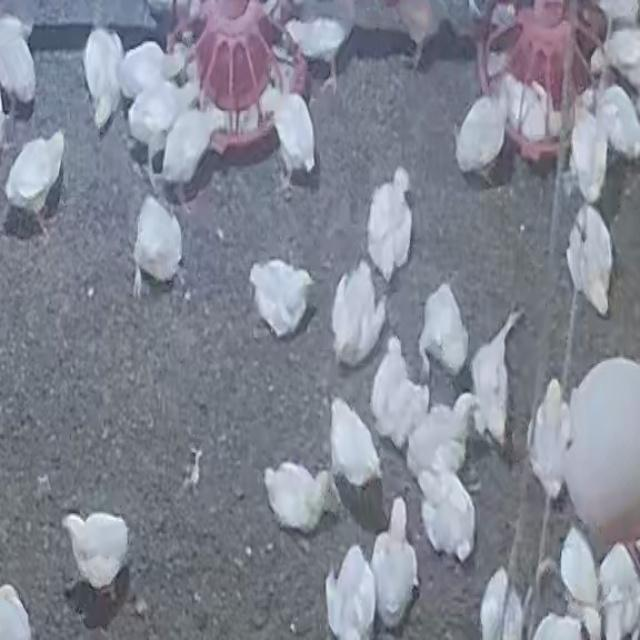chicken: (469, 311, 522, 454), (3, 131, 66, 238), (369, 505, 419, 631), (369, 339, 425, 451), (416, 463, 476, 563), (61, 511, 130, 596), (330, 264, 386, 366), (528, 379, 572, 505), (565, 205, 613, 318), (248, 257, 314, 339), (366, 168, 413, 282), (264, 462, 338, 534), (406, 402, 470, 484), (323, 543, 378, 638), (160, 106, 218, 194), (133, 198, 186, 292), (419, 282, 469, 380), (330, 398, 383, 489), (260, 87, 312, 176), (561, 529, 602, 640), (82, 27, 125, 131), (286, 15, 348, 86), (126, 80, 185, 154), (456, 95, 506, 181), (568, 99, 610, 201), (600, 541, 640, 640), (0, 16, 38, 118), (121, 41, 191, 92), (478, 566, 524, 640), (503, 76, 553, 140), (600, 84, 640, 158), (588, 31, 640, 83), (0, 581, 33, 640), (535, 618, 585, 640)
